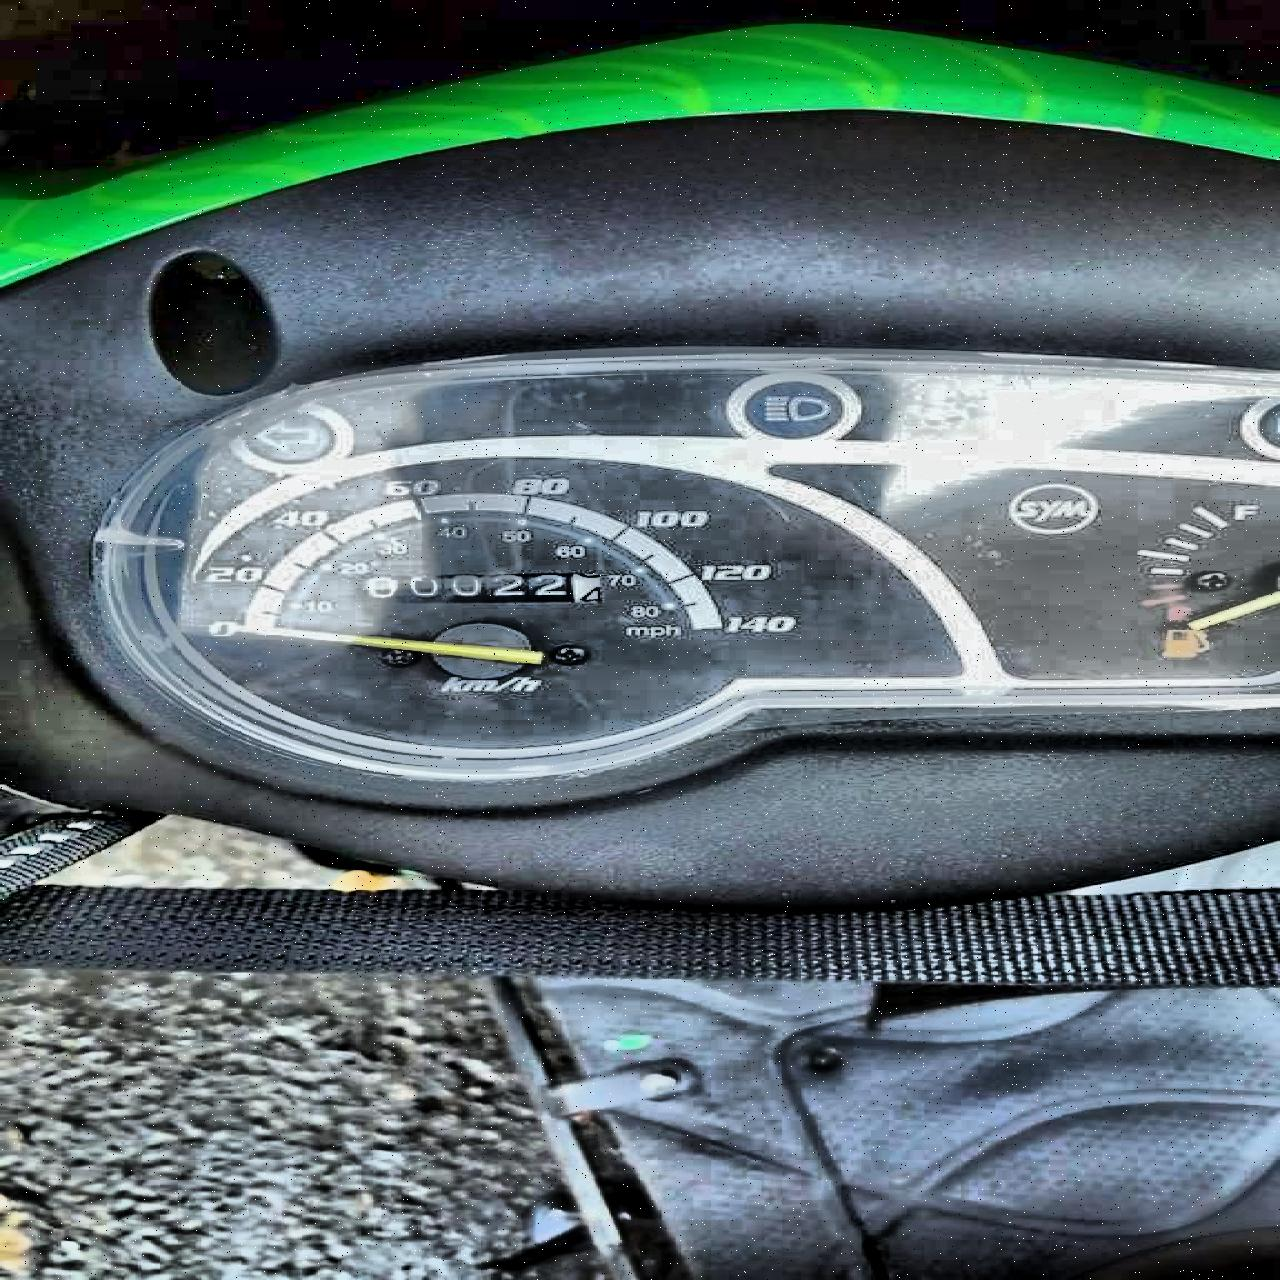0: (360, 577, 399, 599), (404, 572, 437, 598), (444, 573, 479, 597)
2: (529, 572, 567, 598), (489, 572, 523, 598)
4: (573, 584, 602, 604)
7: (606, 573, 618, 585)
odometer: (335, 570, 615, 604)
